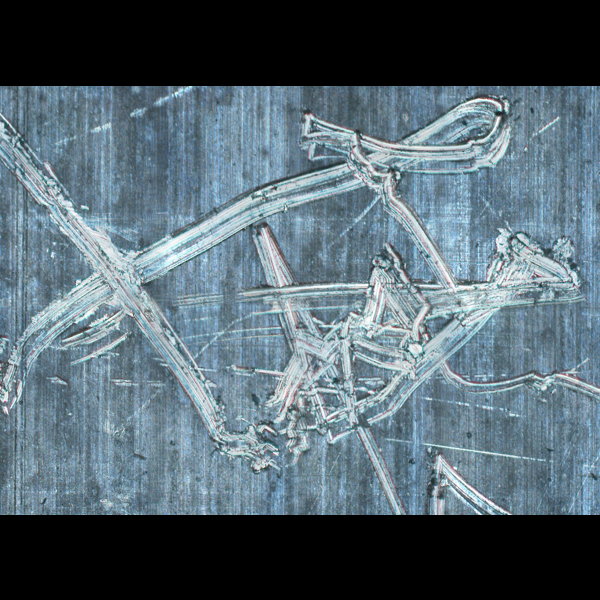d: (0, 138, 279, 458), (216, 232, 457, 474), (281, 92, 527, 210), (448, 217, 591, 321), (433, 335, 599, 401), (405, 435, 525, 514)
